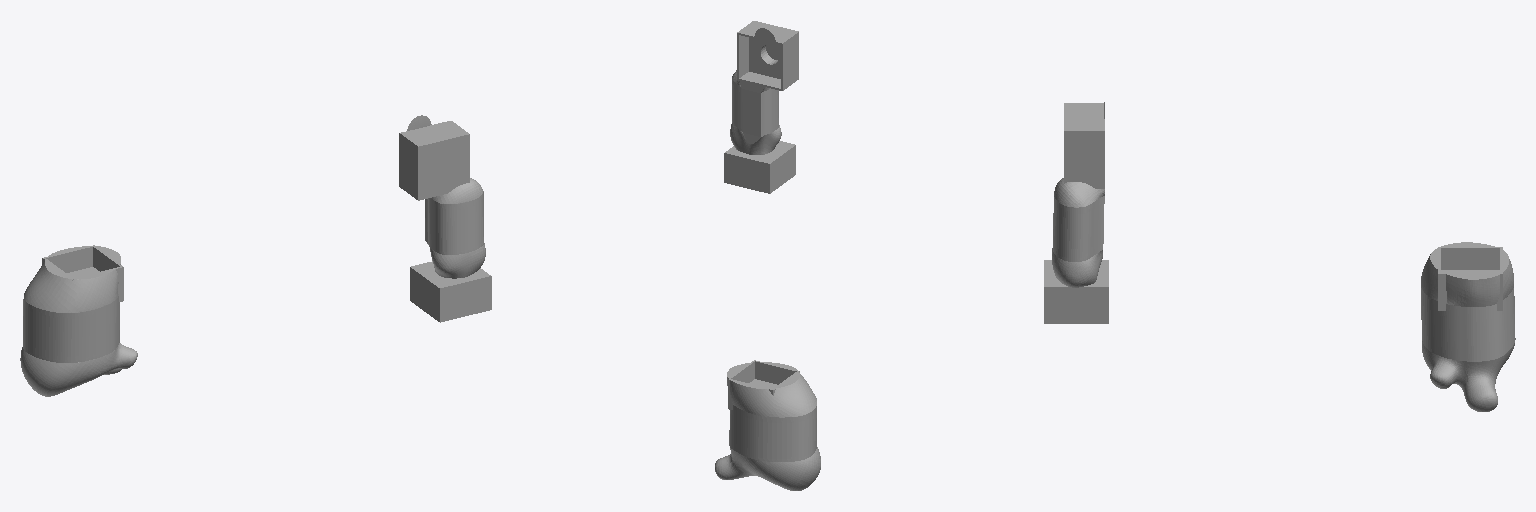
robot.urdf — FrogBot5_top-FrogBot5-z-9_bottom-FrogBot5-z-9:
<?xml version="1.0" ?>
<robot name="FrogBot5_top-FrogBot5-z-9_bottom-FrogBot5-z-9">

<material name="pla_5_percent_infill">
  <color rgba="0.700 0.700 0.700 1.000"/>
</material>

<link name="base_link">
  <inertial>
    <origin xyz="0 0 0" rpy="0 0 0"/>
    <mass value="1.4805118043364613"/>
    <inertia ixx="0.00519778244400068" iyy="0.011185972187213383" izz="0.012581059264896973" ixy="-0.0002102027550041139" iyz="-1.09064860282594e-05" ixz="-0.0008439426245005397"/>
  </inertial>
  <visual>
    <origin xyz="0 0 0" rpy="0 0 0"/>
    <geometry>
      <mesh filename="simple_meshes/base_link.stl" scale="0.001 0.001 0.001"/>
    </geometry>
    <material name="pla_5_percent_infill"/>
  </visual>
  <collision>
    <origin xyz="0 0 0" rpy="0 0 0"/>
    <geometry>
      <mesh filename="simple_meshes/base_link.stl" scale="0.001 0.001 0.001"/>
    </geometry>
  </collision>
</link>

<link name="body_1_0_1">
  <inertial>
    <origin xyz="-0.05492 -0.106321 -0.011198" rpy="0 0 0"/>
    <mass value="0.04405552125673498"/>
    <inertia ixx="5.9654834850663124e-05" iyy="6.320918835850075e-05" izz="1.3441251129353094e-05" ixy="-1.2737465387876968e-07" iyz="-2.4443227752780146e-06" ixz="-1.4871209057625012e-06"/>
  </inertial>
  <visual>
    <origin xyz="-0.05492 -0.106321 -0.011198" rpy="0 0 0"/>
    <geometry>
      <mesh filename="simple_meshes/body_1_0_1.stl" scale="0.001 0.001 0.001"/>
    </geometry>
    <material name="pla_5_percent_infill"/>
  </visual>
  <collision>
    <origin xyz="-0.05492 -0.106321 -0.011198" rpy="0 0 0"/>
    <geometry>
      <mesh filename="simple_meshes/body_1_0_1.stl" scale="0.001 0.001 0.001"/>
    </geometry>
  </collision>
</link>

<link name="body_1_1_1">
  <inertial>
    <origin xyz="0.058377 -0.106321 -0.025493" rpy="0 0 0"/>
    <mass value="0.07275857641701775"/>
    <inertia ixx="0.00011143637844878199" iyy="0.0001343691408933403" izz="4.2805736166722126e-05" ixy="-2.3782049501819714e-06" iyz="-1.6829500092252329e-06" ixz="-3.486175259686538e-05"/>
  </inertial>
  <visual>
    <origin xyz="0.058377 -0.106321 -0.025493" rpy="0 0 0"/>
    <geometry>
      <mesh filename="simple_meshes/body_1_1_1.stl" scale="0.001 0.001 0.001"/>
    </geometry>
    <material name="pla_5_percent_infill"/>
  </visual>
  <collision>
    <origin xyz="0.058377 -0.106321 -0.025493" rpy="0 0 0"/>
    <geometry>
      <mesh filename="simple_meshes/body_1_1_1.stl" scale="0.001 0.001 0.001"/>
    </geometry>
  </collision>
</link>

<link name="body_1_2_1">
  <inertial>
    <origin xyz="-0.053934 0.106321 -0.032331" rpy="0 0 0"/>
    <mass value="0.06340513107704629"/>
    <inertia ixx="0.00010344484209195179" iyy="0.00010983322371158804" izz="2.0977549620812335e-05" ixy="2.6970311535283974e-07" iyz="-2.983121632651564e-07" ixz="9.437502835633562e-06"/>
  </inertial>
  <visual>
    <origin xyz="-0.053934 0.106321 -0.032331" rpy="0 0 0"/>
    <geometry>
      <mesh filename="simple_meshes/body_1_2_1.stl" scale="0.001 0.001 0.001"/>
    </geometry>
    <material name="pla_5_percent_infill"/>
  </visual>
  <collision>
    <origin xyz="-0.053934 0.106321 -0.032331" rpy="0 0 0"/>
    <geometry>
      <mesh filename="simple_meshes/body_1_2_1.stl" scale="0.001 0.001 0.001"/>
    </geometry>
  </collision>
</link>

<link name="body_1_3_1">
  <inertial>
    <origin xyz="0.057483 0.106321 -0.032919" rpy="0 0 0"/>
    <mass value="0.07048185968200177"/>
    <inertia ixx="0.00011355291005043133" iyy="0.00013140568669331107" izz="3.453593300393803e-05" ixy="-5.416915126143758e-07" iyz="-2.8382894450624976e-06" ixz="-2.972161913275374e-05"/>
  </inertial>
  <visual>
    <origin xyz="0.057483 0.106321 -0.032919" rpy="0 0 0"/>
    <geometry>
      <mesh filename="simple_meshes/body_1_3_1.stl" scale="0.001 0.001 0.001"/>
    </geometry>
    <material name="pla_5_percent_infill"/>
  </visual>
  <collision>
    <origin xyz="0.057483 0.106321 -0.032919" rpy="0 0 0"/>
    <geometry>
      <mesh filename="simple_meshes/body_1_3_1.stl" scale="0.001 0.001 0.001"/>
    </geometry>
  </collision>
</link>

<link name="body_2_0_1">
  <inertial>
    <origin xyz="-0.051784 -0.143449 0.115454" rpy="0 0 0"/>
    <mass value="0.09914923472934617"/>
    <inertia ixx="0.0001514918179757723" iyy="0.00015870763410362042" izz="9.915378917339616e-05" ixy="-4.583188191665437e-06" iyz="5.345945089791932e-06" ixz="-5.110583633224442e-06"/>
  </inertial>
  <visual>
    <origin xyz="-0.051784 -0.143449 0.115454" rpy="0 0 0"/>
    <geometry>
      <mesh filename="simple_meshes/body_2_0_1.stl" scale="0.001 0.001 0.001"/>
    </geometry>
    <material name="pla_5_percent_infill"/>
  </visual>
  <collision>
    <origin xyz="-0.051784 -0.143449 0.115454" rpy="0 0 0"/>
    <geometry>
      <mesh filename="simple_meshes/body_2_0_1.stl" scale="0.001 0.001 0.001"/>
    </geometry>
  </collision>
</link>

<link name="body_2_1_1">
  <inertial>
    <origin xyz="0.108798 -0.147527 0.115454" rpy="0 0 0"/>
    <mass value="0.15097169332632926"/>
    <inertia ixx="0.00014901795616743818" iyy="0.00017580879327550644" izz="0.00011599120729201447" ixy="-2.717745407407844e-06" iyz="4.771792079718423e-07" ixz="-1.0396525494250734e-06"/>
  </inertial>
  <visual>
    <origin xyz="0.108798 -0.147527 0.115454" rpy="0 0 0"/>
    <geometry>
      <mesh filename="simple_meshes/body_2_1_1.stl" scale="0.001 0.001 0.001"/>
    </geometry>
    <material name="pla_5_percent_infill"/>
  </visual>
  <collision>
    <origin xyz="0.108798 -0.147527 0.115454" rpy="0 0 0"/>
    <geometry>
      <mesh filename="simple_meshes/body_2_1_1.stl" scale="0.001 0.001 0.001"/>
    </geometry>
  </collision>
</link>

<link name="body_2_2_1">
  <inertial>
    <origin xyz="-0.065031 0.147225 0.115454" rpy="0 0 0"/>
    <mass value="0.0991345083318857"/>
    <inertia ixx="0.00014880087999091015" iyy="0.00014725237260333323" izz="9.234624824074316e-05" ixy="6.069073246103775e-06" iyz="-4.8893601315613995e-06" ixz="-8.541216693431141e-06"/>
  </inertial>
  <visual>
    <origin xyz="-0.065031 0.147225 0.115454" rpy="0 0 0"/>
    <geometry>
      <mesh filename="simple_meshes/body_2_2_1.stl" scale="0.001 0.001 0.001"/>
    </geometry>
    <material name="pla_5_percent_infill"/>
  </visual>
  <collision>
    <origin xyz="-0.065031 0.147225 0.115454" rpy="0 0 0"/>
    <geometry>
      <mesh filename="simple_meshes/body_2_2_1.stl" scale="0.001 0.001 0.001"/>
    </geometry>
  </collision>
</link>

<link name="body_2_3_1">
  <inertial>
    <origin xyz="0.101339 0.151086 0.115454" rpy="0 0 0"/>
    <mass value="0.15964928588677604"/>
    <inertia ixx="0.00017928398948939724" iyy="0.00021507172171234858" izz="0.00012606448422304052" ixy="1.406466357955962e-06" iyz="-6.337226060026957e-06" ixz="8.154131374401175e-06"/>
  </inertial>
  <visual>
    <origin xyz="0.101339 0.151086 0.115454" rpy="0 0 0"/>
    <geometry>
      <mesh filename="simple_meshes/body_2_3_1.stl" scale="0.001 0.001 0.001"/>
    </geometry>
    <material name="pla_5_percent_infill"/>
  </visual>
  <collision>
    <origin xyz="0.101339 0.151086 0.115454" rpy="0 0 0"/>
    <geometry>
      <mesh filename="simple_meshes/body_2_3_1.stl" scale="0.001 0.001 0.001"/>
    </geometry>
  </collision>
</link>

<joint name="joint_1_0" type="revolute">
  <origin xyz="0.05492 0.106321 0.011198" rpy="0 0 0"/>
  <parent link="base_link"/>
  <child link="body_1_0_1"/>
  <axis xyz="0.0 1.0 0.0"/>
  <limit upper="1.2" lower="-1.2" effort="3.8" velocity="5.4"/>
</joint>
<transmission name="joint_1_0_tran">
  <type>transmission_interface/SimpleTransmission</type>
  <joint name="joint_1_0">
    <hardwareInterface>PositionJointInterface</hardwareInterface>
  </joint>
  <actuator name="joint_1_0_actr">
    <hardwareInterface>PositionJointInterface</hardwareInterface>
    <mechanicalReduction>1</mechanicalReduction>
  </actuator>
</transmission>

<joint name="joint_1_1" type="revolute">
  <origin xyz="-0.058377 0.106321 0.025493" rpy="0 0 0"/>
  <parent link="base_link"/>
  <child link="body_1_1_1"/>
  <axis xyz="0.0 1.0 0.0"/>
  <limit upper="1.2" lower="-1.2" effort="3.8" velocity="5.4"/>
</joint>
<transmission name="joint_1_1_tran">
  <type>transmission_interface/SimpleTransmission</type>
  <joint name="joint_1_1">
    <hardwareInterface>PositionJointInterface</hardwareInterface>
  </joint>
  <actuator name="joint_1_1_actr">
    <hardwareInterface>PositionJointInterface</hardwareInterface>
    <mechanicalReduction>1</mechanicalReduction>
  </actuator>
</transmission>

<joint name="joint_1_2" type="revolute">
  <origin xyz="0.053934 -0.106321 0.032331" rpy="0 0 0"/>
  <parent link="base_link"/>
  <child link="body_1_2_1"/>
  <axis xyz="0.0 1.0 0.0"/>
  <limit upper="1.2" lower="-1.2" effort="3.8" velocity="5.4"/>
</joint>
<transmission name="joint_1_2_tran">
  <type>transmission_interface/SimpleTransmission</type>
  <joint name="joint_1_2">
    <hardwareInterface>PositionJointInterface</hardwareInterface>
  </joint>
  <actuator name="joint_1_2_actr">
    <hardwareInterface>PositionJointInterface</hardwareInterface>
    <mechanicalReduction>1</mechanicalReduction>
  </actuator>
</transmission>

<joint name="joint_1_3" type="revolute">
  <origin xyz="-0.057483 -0.106321 0.032919" rpy="0 0 0"/>
  <parent link="base_link"/>
  <child link="body_1_3_1"/>
  <axis xyz="0.0 1.0 0.0"/>
  <limit upper="1.2" lower="-1.2" effort="3.8" velocity="5.4"/>
</joint>
<transmission name="joint_1_3_tran">
  <type>transmission_interface/SimpleTransmission</type>
  <joint name="joint_1_3">
    <hardwareInterface>PositionJointInterface</hardwareInterface>
  </joint>
  <actuator name="joint_1_3_actr">
    <hardwareInterface>PositionJointInterface</hardwareInterface>
    <mechanicalReduction>1</mechanicalReduction>
  </actuator>
</transmission>

<joint name="joint_2_0" type="revolute">
  <origin xyz="-0.003136 0.037128 -0.126652" rpy="0 0 0"/>
  <parent link="body_1_0_1"/>
  <child link="body_2_0_1"/>
  <axis xyz="0.0 0.0 1.0"/>
  <limit upper="1.2" lower="-1.2" effort="3.8" velocity="5.4"/>
</joint>
<transmission name="joint_2_0_tran">
  <type>transmission_interface/SimpleTransmission</type>
  <joint name="joint_2_0">
    <hardwareInterface>PositionJointInterface</hardwareInterface>
  </joint>
  <actuator name="joint_2_0_actr">
    <hardwareInterface>PositionJointInterface</hardwareInterface>
    <mechanicalReduction>1</mechanicalReduction>
  </actuator>
</transmission>

<joint name="joint_2_1" type="revolute">
  <origin xyz="-0.050421 0.041206 -0.140947" rpy="0 0 0"/>
  <parent link="body_1_1_1"/>
  <child link="body_2_1_1"/>
  <axis xyz="0.0 0.0 1.0"/>
  <limit upper="1.2" lower="-1.2" effort="3.8" velocity="5.4"/>
</joint>
<transmission name="joint_2_1_tran">
  <type>transmission_interface/SimpleTransmission</type>
  <joint name="joint_2_1">
    <hardwareInterface>PositionJointInterface</hardwareInterface>
  </joint>
  <actuator name="joint_2_1_actr">
    <hardwareInterface>PositionJointInterface</hardwareInterface>
    <mechanicalReduction>1</mechanicalReduction>
  </actuator>
</transmission>

<joint name="joint_2_2" type="revolute">
  <origin xyz="0.011097 -0.040904 -0.147785" rpy="0 0 0"/>
  <parent link="body_1_2_1"/>
  <child link="body_2_2_1"/>
  <axis xyz="0.0 0.0 1.0"/>
  <limit upper="1.2" lower="-1.2" effort="3.8" velocity="5.4"/>
</joint>
<transmission name="joint_2_2_tran">
  <type>transmission_interface/SimpleTransmission</type>
  <joint name="joint_2_2">
    <hardwareInterface>PositionJointInterface</hardwareInterface>
  </joint>
  <actuator name="joint_2_2_actr">
    <hardwareInterface>PositionJointInterface</hardwareInterface>
    <mechanicalReduction>1</mechanicalReduction>
  </actuator>
</transmission>

<joint name="joint_2_3" type="revolute">
  <origin xyz="-0.043856 -0.044765 -0.148373" rpy="0 0 0"/>
  <parent link="body_1_3_1"/>
  <child link="body_2_3_1"/>
  <axis xyz="0.0 0.0 1.0"/>
  <limit upper="1.2" lower="-1.2" effort="3.8" velocity="5.4"/>
</joint>
<transmission name="joint_2_3_tran">
  <type>transmission_interface/SimpleTransmission</type>
  <joint name="joint_2_3">
    <hardwareInterface>PositionJointInterface</hardwareInterface>
  </joint>
  <actuator name="joint_2_3_actr">
    <hardwareInterface>PositionJointInterface</hardwareInterface>
    <mechanicalReduction>1</mechanicalReduction>
  </actuator>
</transmission>

</robot>

--- Facts derived from the render (not from the file) ---
The picture shows the robot from 3 angles, left to right: view 1: azimuth 30°, elevation 25°; view 2: azimuth 150°, elevation 25°; view 3: azimuth 270°, elevation 25°; orthographic projection.
Model FrogBot5_top-FrogBot5-z-9_bottom-FrogBot5-z-9 with 9 links and 8 joints (8 revolute), rooted at base_link, posed every joint at zero.
Visible links, largest first — view 1: body_1_2_1, body_2_1_1; view 2: body_2_1_1, body_1_2_1; view 3: body_2_1_1, body_1_2_1.
Boxes of the visible links, bbox=[...] form: body_1_2_1: bbox=[399, 115, 491, 322]; body_2_1_1: bbox=[20, 245, 137, 396]; body_2_1_1: bbox=[715, 360, 820, 490]; body_1_2_1: bbox=[724, 21, 798, 193]; body_2_1_1: bbox=[1421, 242, 1515, 411]; body_1_2_1: bbox=[1044, 102, 1108, 323].
Bounding box of the posed robot: 0.2584 × 0.3528 × 0.3142 m (x, y, z).
Meshes: 9 distinct files referenced, 2 mesh visuals loaded (2 binary STL); not drawn: 7 (reference not matched to a file when rendering).